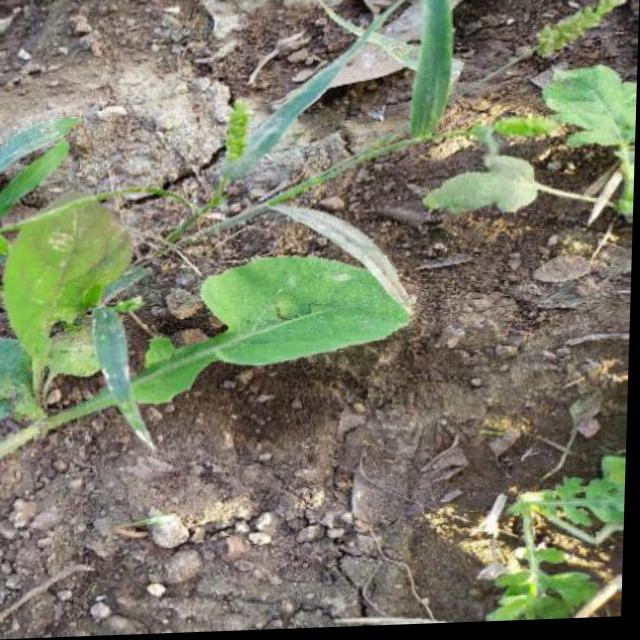weed: (0, 173, 425, 460)
